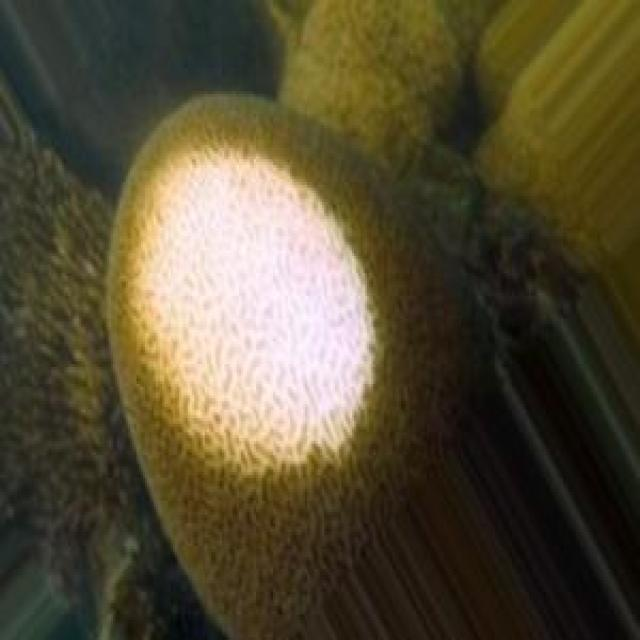Bleached: (127, 143, 374, 473)
